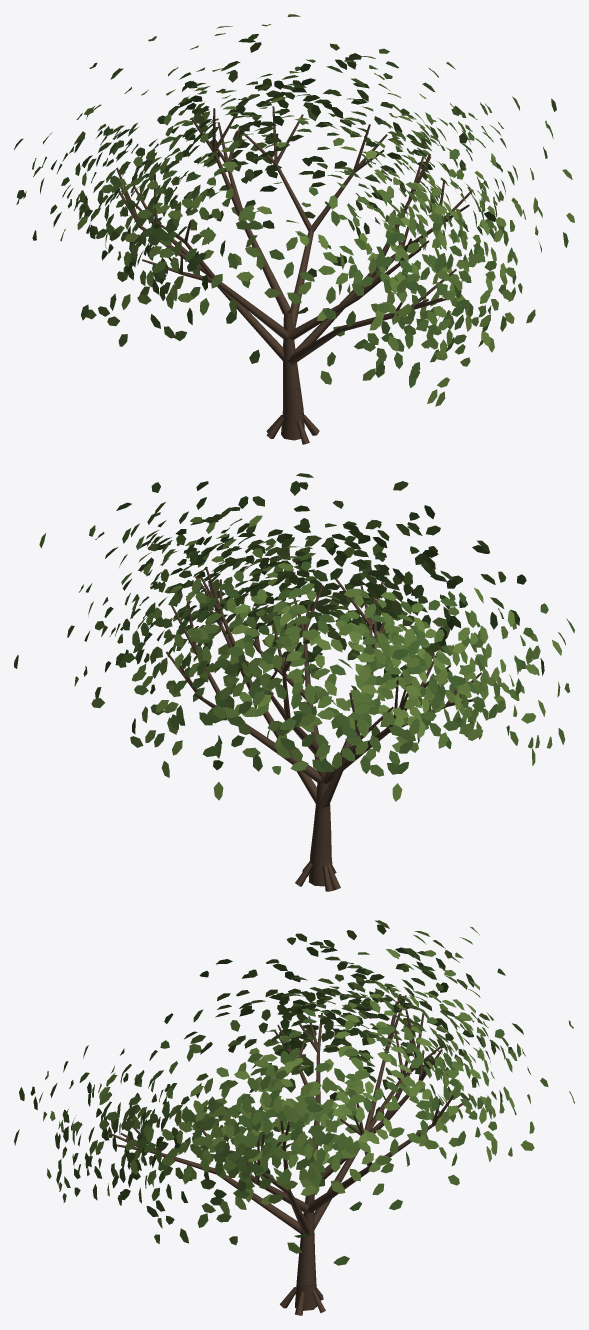
The model's file is oak_1.glb.
The picture shows the model from 3 angles, top to bottom: view 1: azimuth 30°, elevation 25°; view 2: azimuth 150°, elevation 25°; view 3: azimuth 270°, elevation 25°; orthographic projection. The views are drawn at different scales.
Parts seen in each view (by area): view 1: oak_1_LOD0; view 2: oak_1_LOD0; view 3: oak_1_LOD0.
Part boxes in pixels (box(x1,y1,x2,y2)): oak_1_LOD0: box(14, 14, 574, 444); oak_1_LOD0: box(14, 473, 574, 891); oak_1_LOD0: box(14, 920, 574, 1315).
Size of what is drawn, in the model's own units: 3.47 by 2.53 by 3.51.
